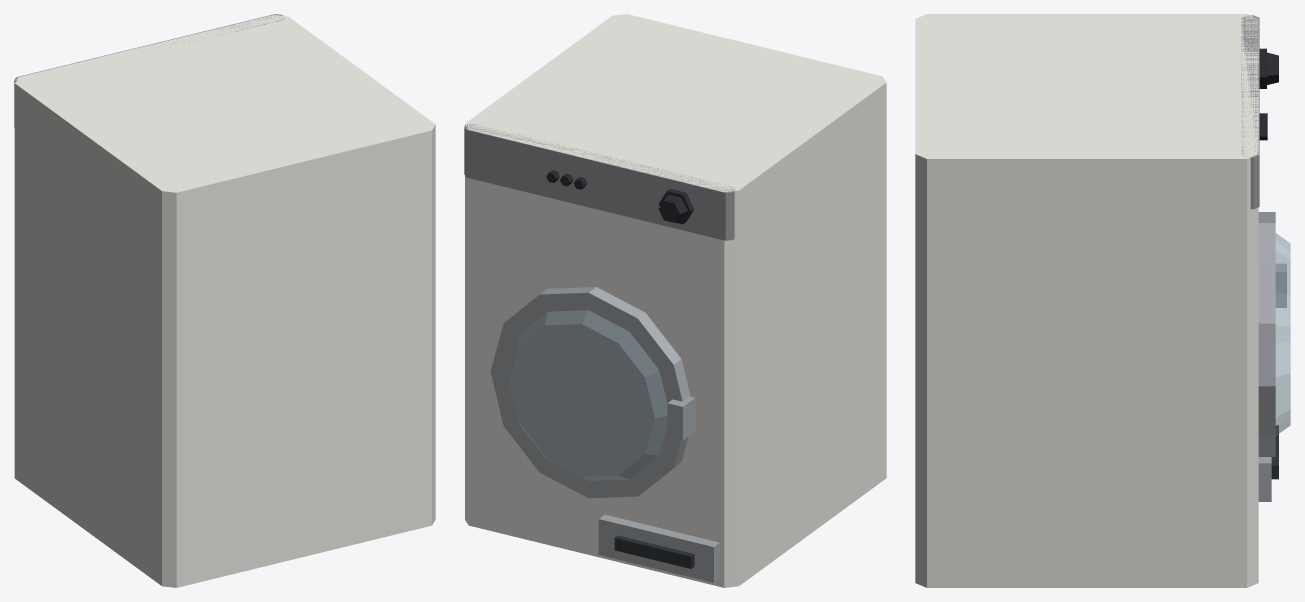
File: SM_LPI_Appl_Dryer_01.fbx
3 views of the same model, side by side, from view 1: azimuth 30°, elevation 25°; view 2: azimuth 150°, elevation 25°; view 3: azimuth 270°, elevation 25° (orthographic). The views are drawn at different scales.
Parts seen in each view (by area): view 1: SM_LPI_Appl_Dryer_01; view 2: SM_LPI_Appl_Dryer_01; view 3: SM_LPI_Appl_Dryer_01.
Boxes of the visible parts, box(x1,y1,x2,y2) form: SM_LPI_Appl_Dryer_01: box(14, 14, 435, 587); SM_LPI_Appl_Dryer_01: box(464, 14, 886, 587); SM_LPI_Appl_Dryer_01: box(915, 14, 1290, 587).
Size of the model in its own units: 0.6 by 0.85 by 0.656.
